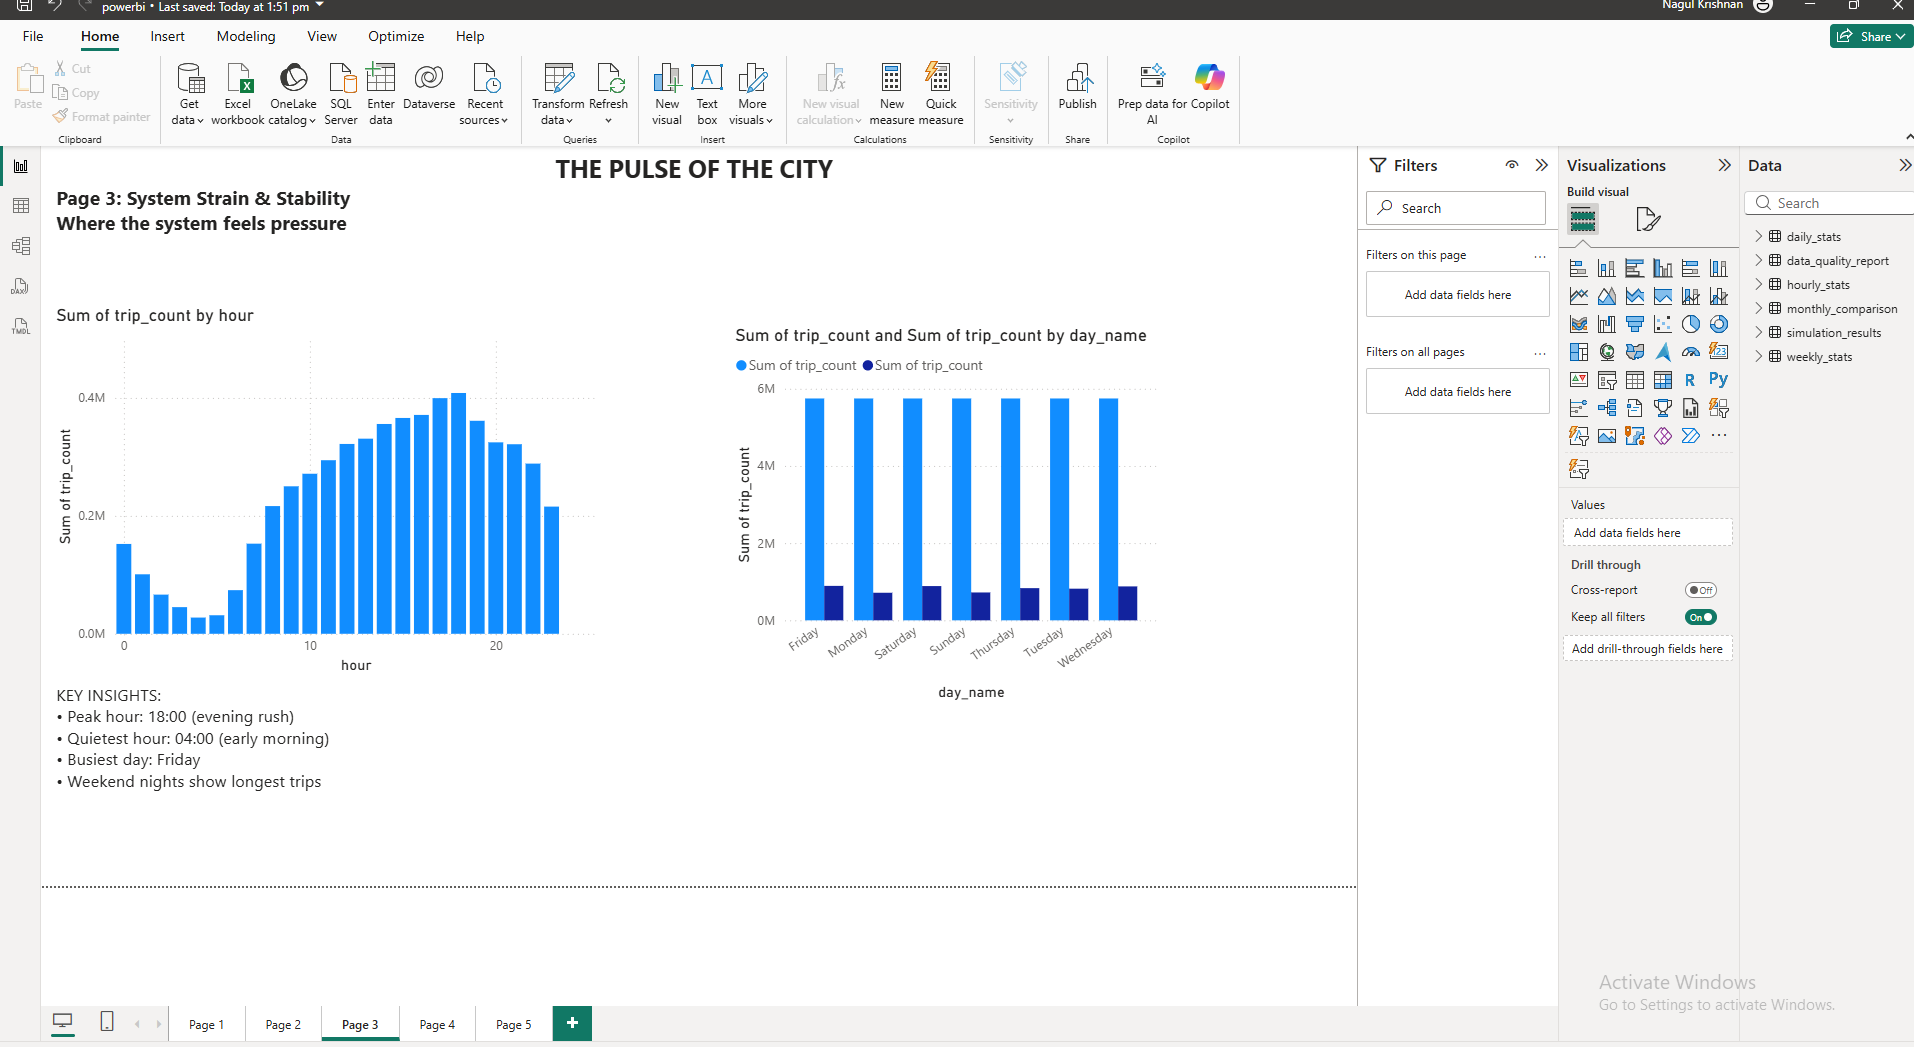

This screenshot's page, from the dashboard's own definition file:
{"tool":"powerbi","page":{"name":"Page 3","canvas":[1280,720],"ordinal":2},"visuals":[{"type":"textbox","box":[9.7,0,1250.8,168.3],"z":0},{"type":"clusteredColumnChart","fields":{"Category":["hourly_stats.hour"],"Y":["Sum(hourly_stats.trip_count)"]},"box":[9.7,154.7,535.9,362.8],"z":1000},{"type":"clusteredColumnChart","fields":{"Category":["weekly_stats.day_name"],"Y":["Sum(hourly_stats.trip_count)","Sum(weekly_stats.trip_count)"]},"box":[670.2,174.1,421.2,370.6],"z":2000},{"type":"textbox","box":[10,517,359,203],"z":3000}]}

Visuals, with their boxes on the page's 1280x720 design canvas (x1, y1, x2, y2). These are canvas units, not pixel positions in the 1914x1047 screenshot, which may show the page scaled, cropped or inside an application window:
textbox: 10,0,1260,168
clusteredColumnChart - hourly_stats.hour x Sum(hourly_stats.trip_count): 10,155,546,518
clusteredColumnChart - weekly_stats.day_name x Sum(hourly_stats.trip_count): 670,174,1091,545
textbox: 10,517,369,720
